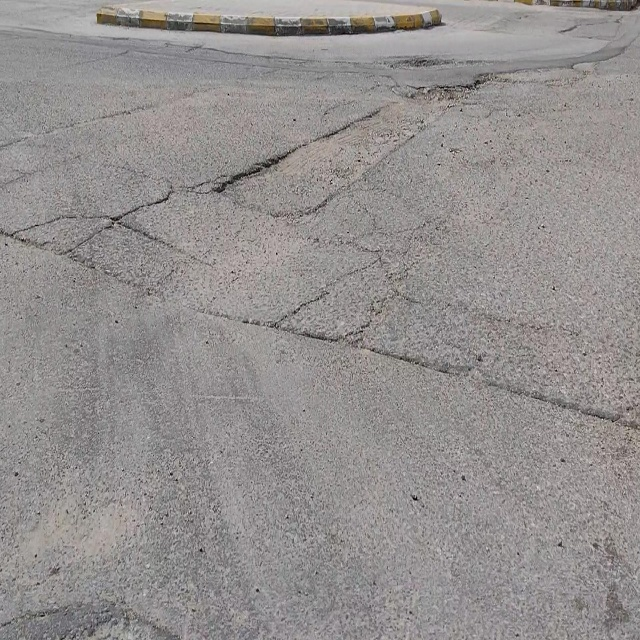pothole: (203, 125, 353, 217)
